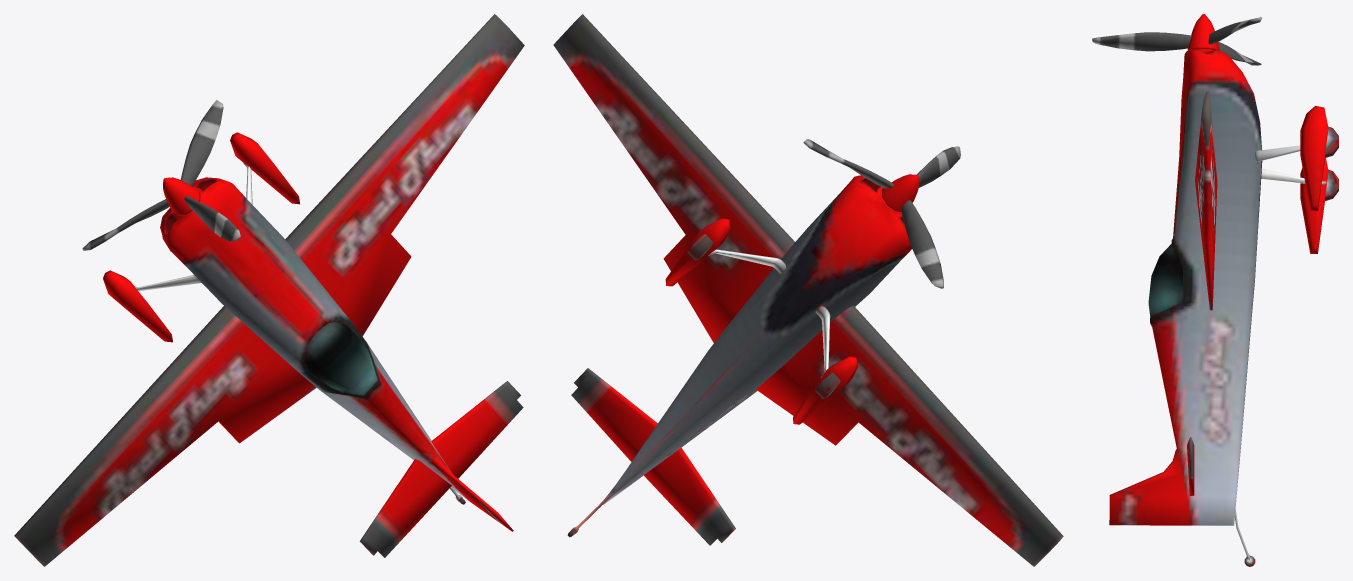
The model's file is redPlane.fbx.
3 views of the same model, side by side, from view 1: azimuth 30°, elevation 25°; view 2: azimuth 150°, elevation 25°; view 3: azimuth 270°, elevation 25° (orthographic). The views are drawn at different scales.
Visible parts, largest first — view 1: Edge540Body, Edge540PropOff; view 2: Edge540Body, Edge540PropOff; view 3: Edge540Body, Edge540PropOff.
Part boxes in pixels (bbox=[...]): Edge540Body: bbox=[14, 14, 524, 566]; Edge540PropOff: bbox=[82, 100, 240, 250]; Edge540Body: bbox=[553, 14, 1063, 566]; Edge540PropOff: bbox=[803, 139, 960, 288]; Edge540Body: bbox=[1109, 48, 1338, 566]; Edge540PropOff: bbox=[1092, 14, 1261, 65].
Size of the model in its own units: 20.65 by 19.7 by 9.09.
Materials: 2 (2 with a texture image).
